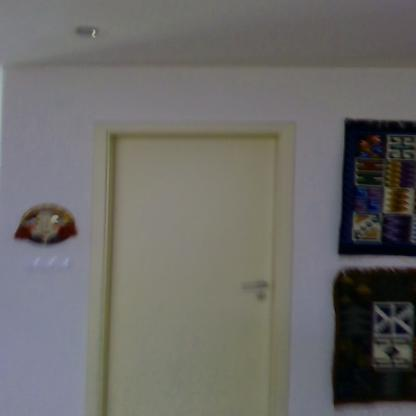door: (112, 134, 278, 416)
lever: (230, 277, 270, 292)
